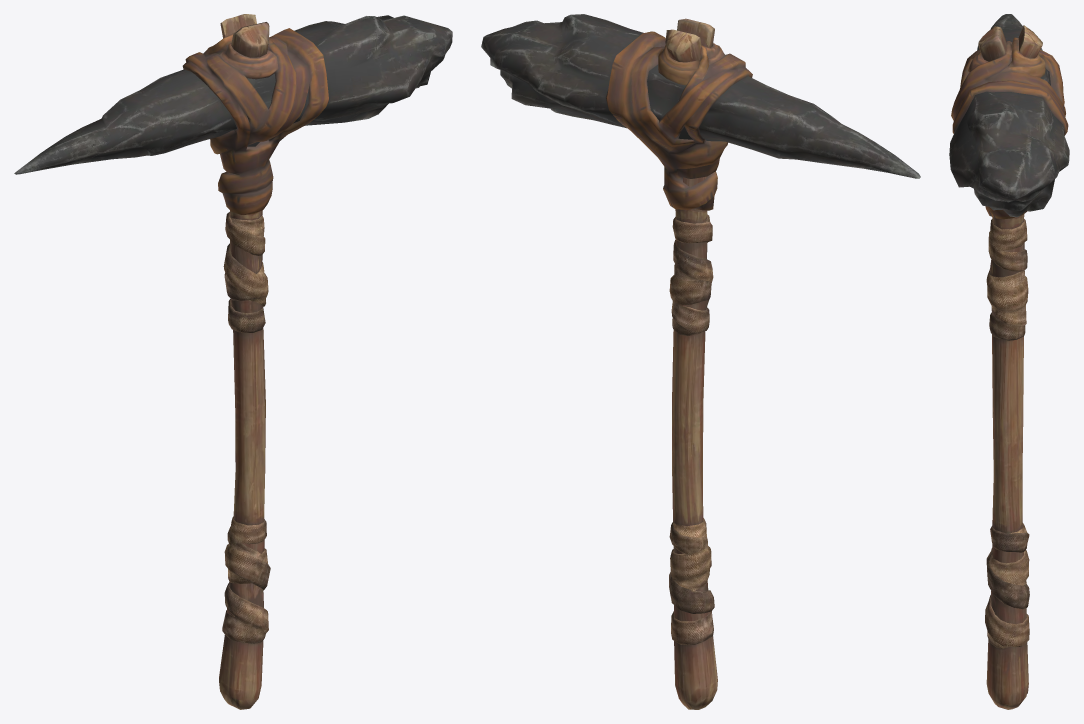
3 renders of one model, left to right at view 1: azimuth 30°, elevation 25°; view 2: azimuth 150°, elevation 25°; view 3: azimuth 270°, elevation 25°, orthographic.
Visible parts, largest first — view 1: SM_Pickaxe_Stone_2H_01_LOD0; view 2: SM_Pickaxe_Stone_2H_01_LOD0; view 3: SM_Pickaxe_Stone_2H_01_LOD0.
Part boxes in pixels (<box>): SM_Pickaxe_Stone_2H_01_LOD0: <box>14,14,452,709</box>; SM_Pickaxe_Stone_2H_01_LOD0: <box>481,14,920,709</box>; SM_Pickaxe_Stone_2H_01_LOD0: <box>949,14,1069,709</box>.
Bounding box in the file's own units: 0.9164 × 1.37 × 0.2197.
Materials: 1 (1 with a texture image).
